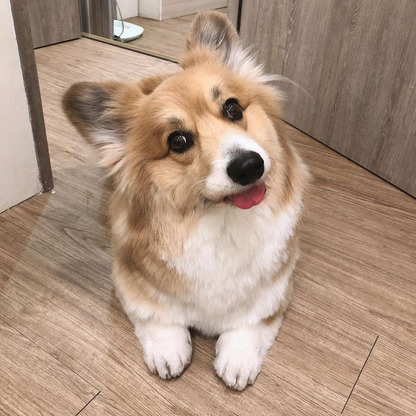Corgi: (62, 24, 342, 390)
